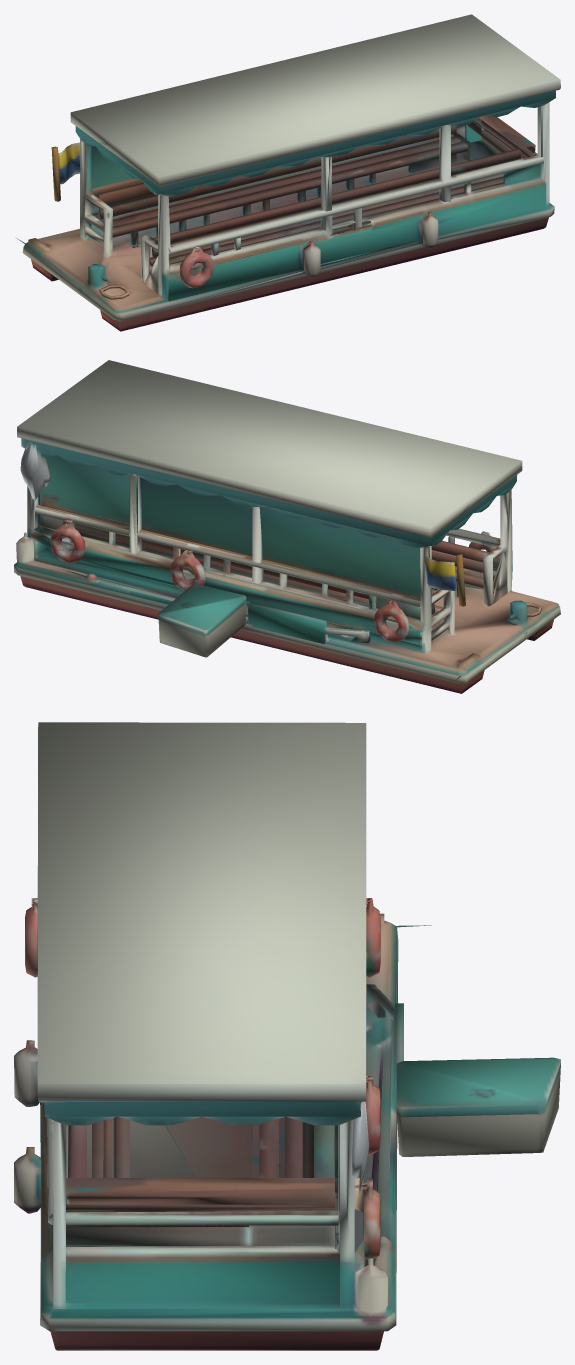
File: Planchon.glb
3 views of the same model, one above another, from view 1: azimuth 30°, elevation 25°; view 2: azimuth 150°, elevation 25°; view 3: azimuth 270°, elevation 25° (orthographic). The views are drawn at different scales.
Visible parts, largest first — view 1: mesh_rep_0_ori_repair_quad; view 2: mesh_rep_0_ori_repair_quad; view 3: mesh_rep_0_ori_repair_quad.
Boxes of the visible parts, bbox=[...] form: mesh_rep_0_ori_repair_quad: bbox=[15, 14, 560, 331]; mesh_rep_0_ori_repair_quad: bbox=[14, 360, 560, 693]; mesh_rep_0_ori_repair_quad: bbox=[14, 722, 560, 1350].
Size of the model in its own units: 1.17 by 0.3807 by 0.6802.
Materials: 1 (1 with a texture image).
